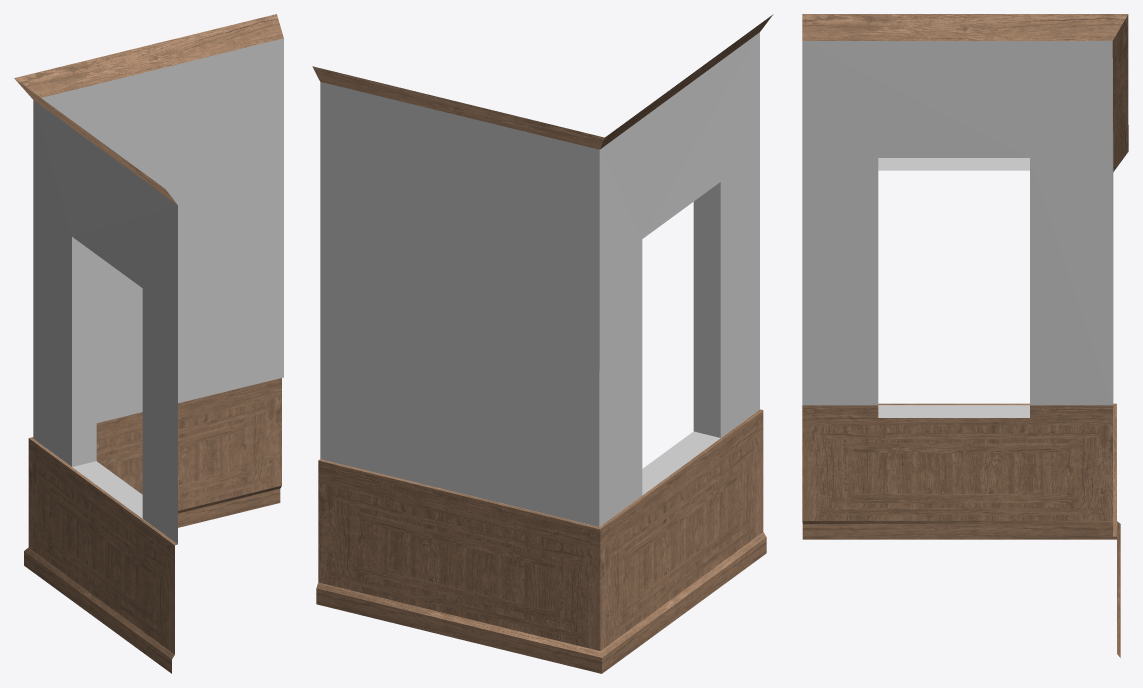
Rendered from WallIntWindowCorneroutside1A.fbx.
3 renders of one model, left to right at view 1: azimuth 30°, elevation 25°; view 2: azimuth 150°, elevation 25°; view 3: azimuth 270°, elevation 25°, orthographic. The views are drawn at different scales.
Visible parts, largest first — view 1: WallIntWindowCorneroutside1A; view 2: WallIntWindowCorneroutside1A; view 3: WallIntWindowCorneroutside1A.
Part boxes in pixels (x1,y1,x2,y2): WallIntWindowCorneroutside1A: [14, 14, 283, 673]; WallIntWindowCorneroutside1A: [312, 14, 773, 673]; WallIntWindowCorneroutside1A: [802, 14, 1128, 657].
Bounding box in the file's own units: 215 × 380 × 215.
